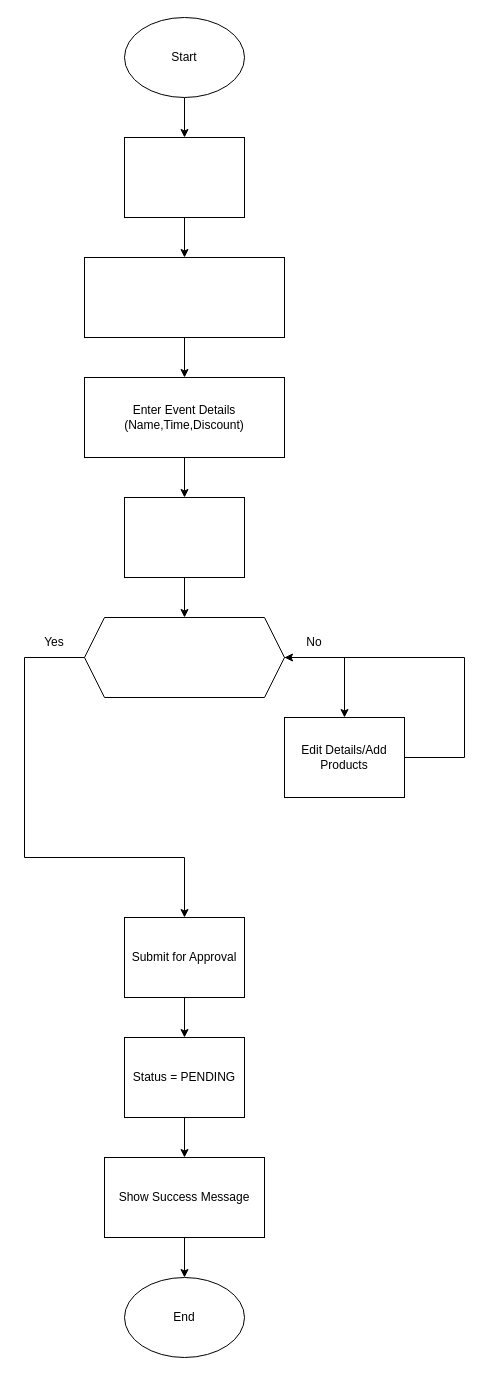
Some shapes in this 490 by 1375 pixel diagram are drawn without their labels. The shapes that lost their labels are listed below. From the top down, each one's centre as x and y in pixels, then its label:
At (x=184, y=177): "Log in as Seller".
At (x=184, y=297): "Open Flash Sale Management".
At (x=184, y=537): "Add Products".
At (x=184, y=657): "All information complete & at least one product added ?".
